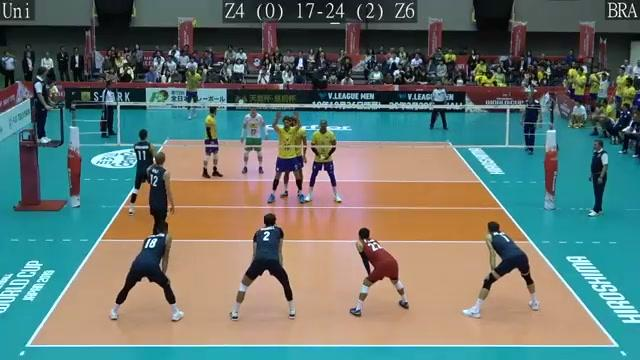ball: (189, 19, 205, 28)
